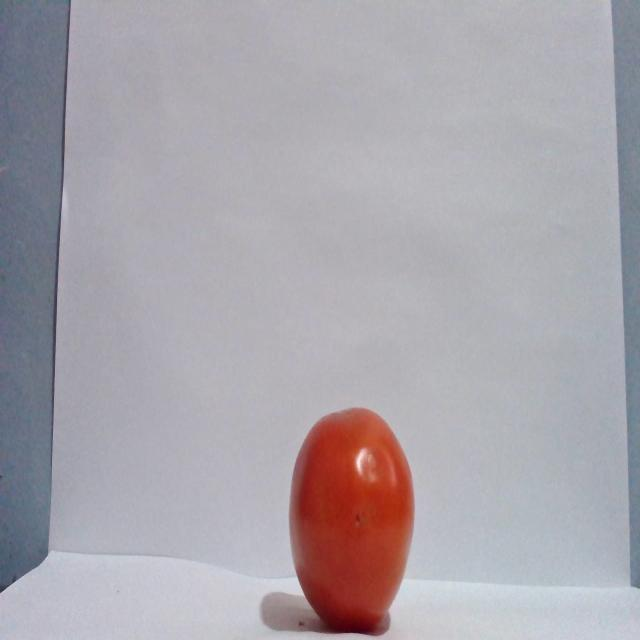Red: (287, 405, 415, 633)
